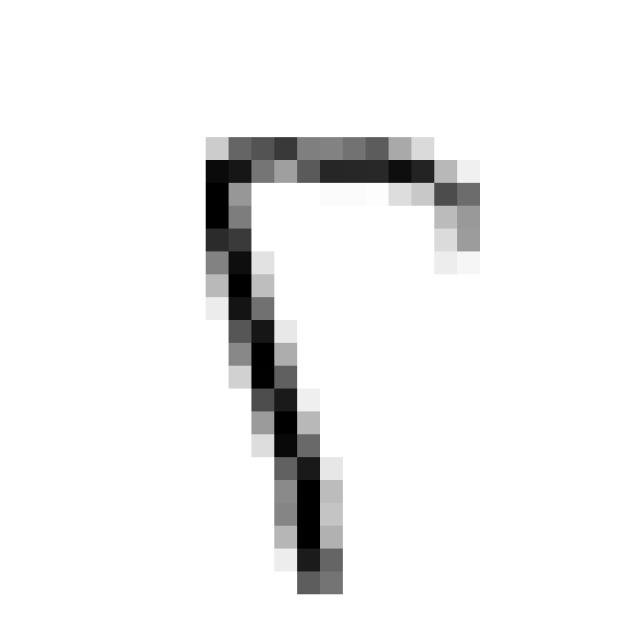2 -two-: (167, 110, 500, 618)
